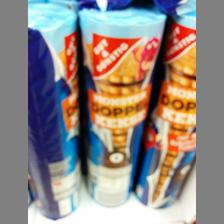Schokolade: (78, 7, 162, 205), (27, 2, 78, 218), (142, 14, 194, 210)
